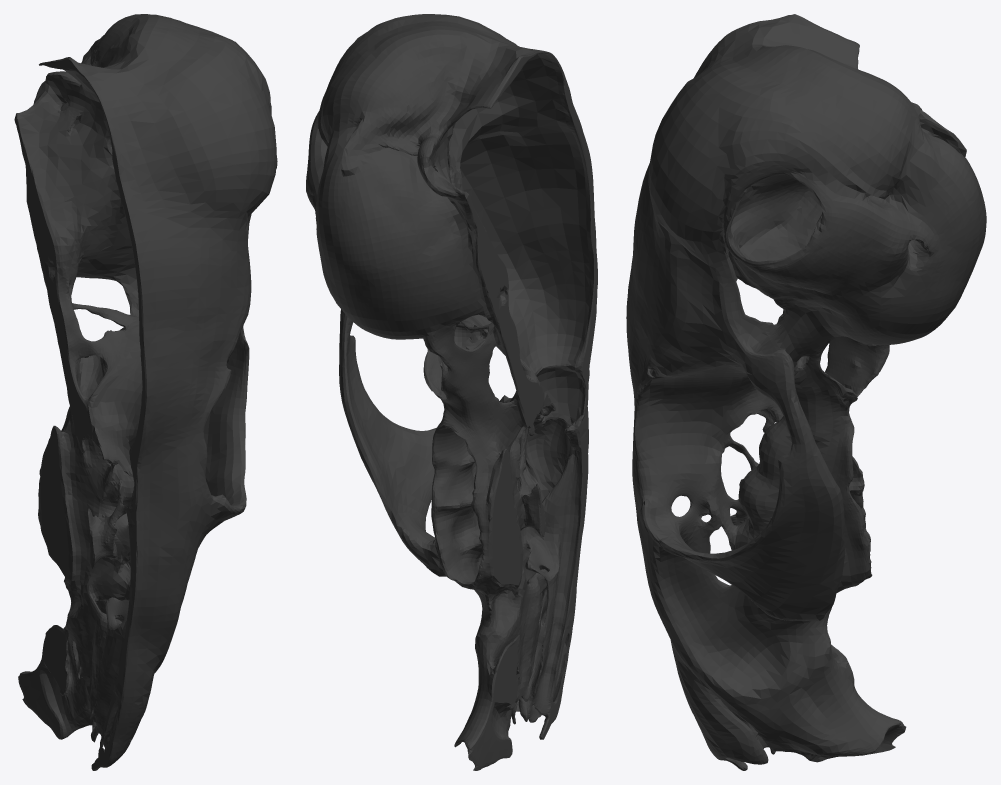
3 renders of one model, left to right at view 1: azimuth 30°, elevation 25°; view 2: azimuth 150°, elevation 25°; view 3: azimuth 270°, elevation 25°, orthographic. The views are drawn at different scales.
Visible parts, largest first — view 1: world; view 2: world; view 3: world.
Part boxes in pixels (x1,y1,x2,y2): world: [14, 14, 277, 770]; world: [306, 14, 597, 770]; world: [626, 14, 986, 770].
Bounding box in the file's own units: 0.7117 × 2.47 × 1.06.
Materials: 1 (1 with a texture image).
